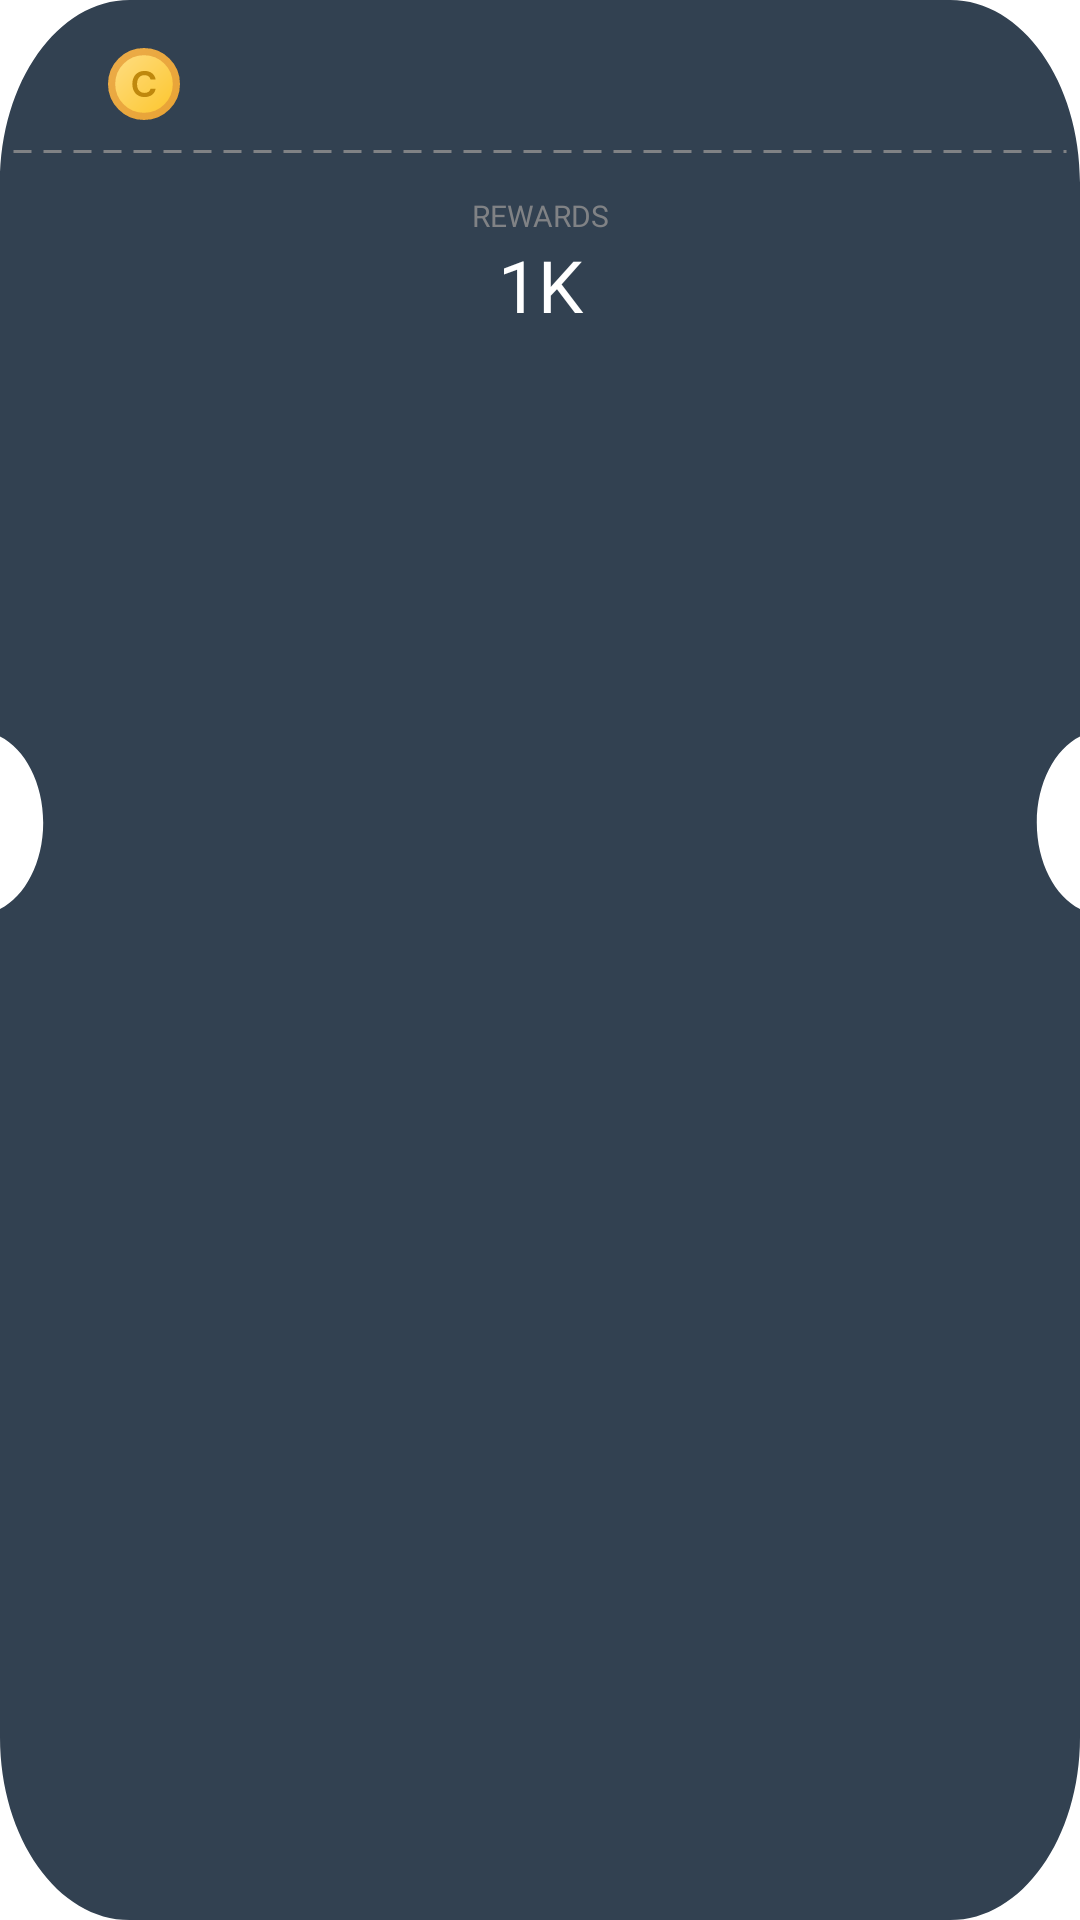

Screen size 1080px×1920px. Icon name, then its center in pixels as (x,y):
coin: (144,84)
